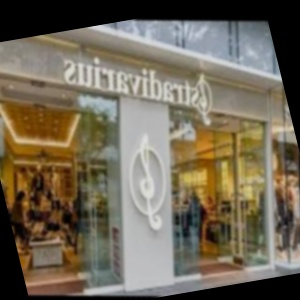stradivarius: (99, 61, 232, 183), (182, 61, 271, 86)
